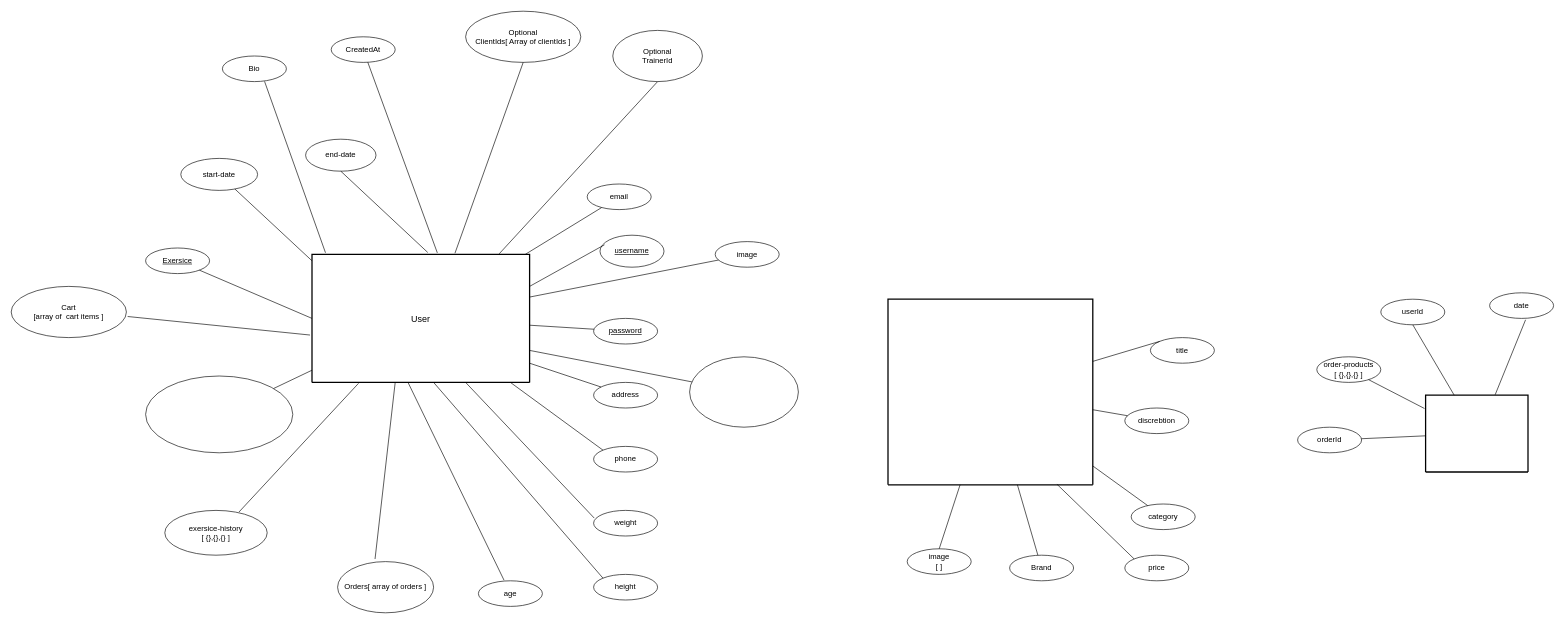
Some shapes in this 1565 by 624 pixel diagram are drawn without their labels. Here are the shapes that lost their labels. From the top down, the box of each, then its label:
(689, 356, 798, 427): Role {"admin","trainer","client"}
(887, 298, 1093, 485): Product
(145, 375, 293, 453): Subscribtion ["Premuim","Standard","Basic" ]
(1425, 394, 1528, 472): Order
